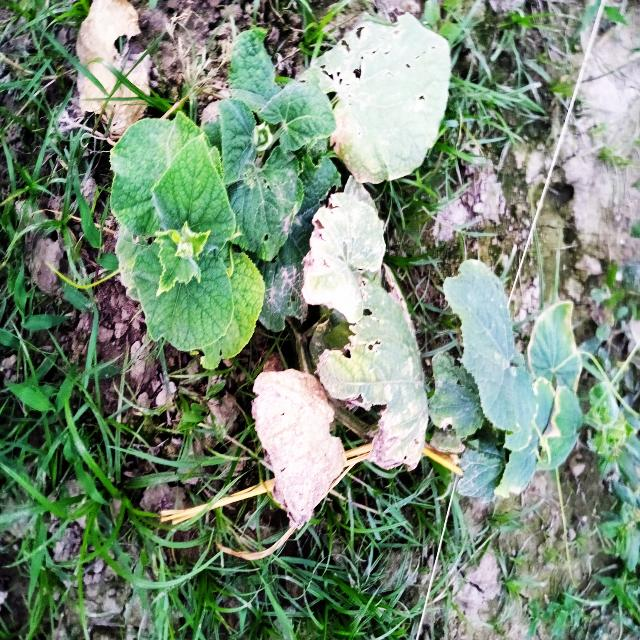Bacterial-Wilt: (250, 368, 348, 535)
